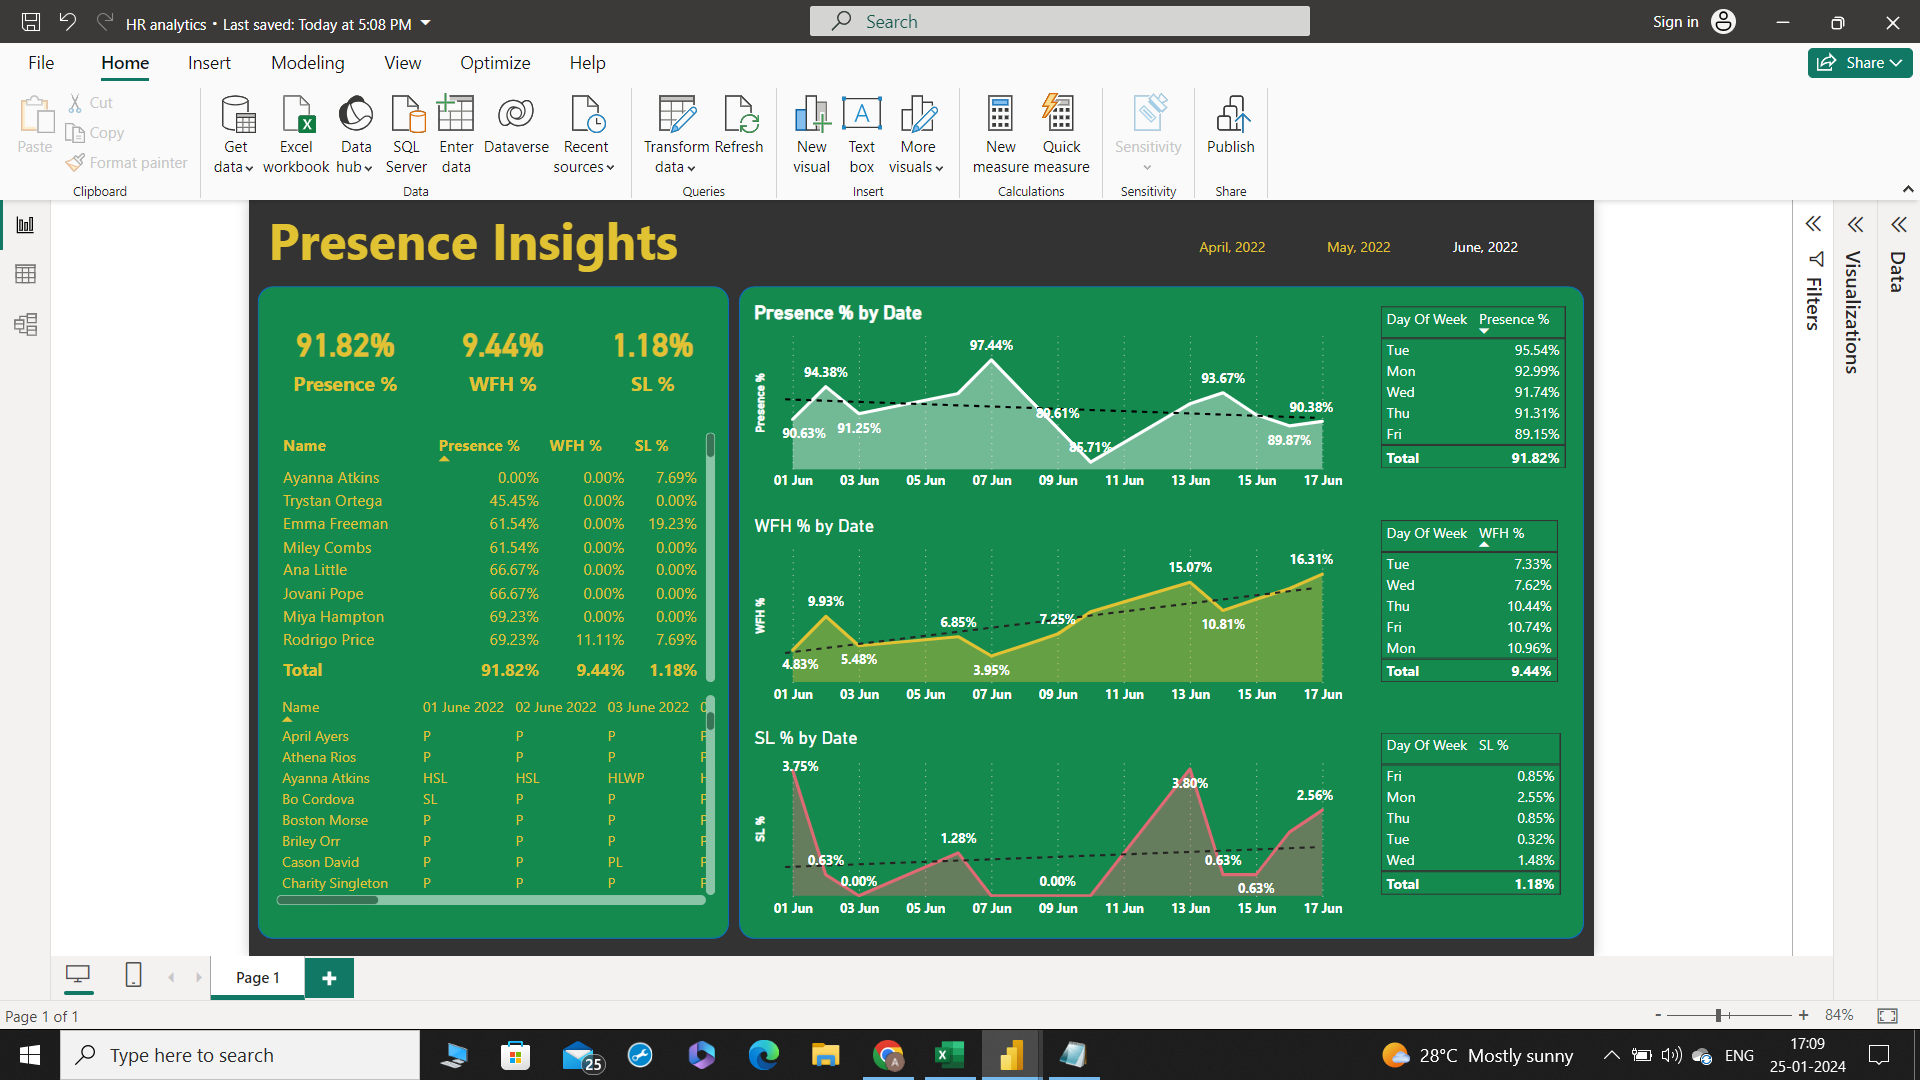

The page's visual inventory and layout, read from the dashboard file:
{"tool":"powerbi","page":{"name":"Page 1","canvas":[1280,720],"ordinal":0},"visuals":[{"type":"shape","box":[8.3,82.1,448.7,621.2],"z":0},{"type":"shape","box":[466.5,82.1,804.5,621.2],"z":1000},{"type":"card","fields":{"Values":["Measure Table.Presence %"]},"box":[21.4,96.4,140.4,104.7],"z":2000},{"type":"slicer","fields":{"Values":["Final Data.Month"]},"box":[850.9,15.5,409.4,58.3],"z":3000},{"type":"card","fields":{"Values":["Measure Table.WFH %"]},"box":[185.7,96.4,111.9,104.7],"z":4000},{"type":"card","fields":{"Values":["Measure Table.SL %"]},"box":[320.1,96.4,128.5,104.7],"z":5000},{"type":"tableEx","fields":{"Values":["Final Data.Name","Measure Table.Presence %","Measure Table.WFH %","Measure Table.SL %"]},"box":[21.4,216.6,427.2,247.5],"z":6000},{"type":"textbox","box":[0,0,427.2,80.9],"z":7000},{"type":"pivotTable","fields":{"Rows":["Final Data.Name"],"Columns":["Final Data.Date"],"Values":["Min(Final Data.Value)"]},"box":[21.4,466.5,427.2,209.5],"z":8000},{"type":"areaChart","fields":{"Y":["Measure Table.Presence %"],"Category":["Final Data.Date"]},"box":[476,96.4,570,189.2],"z":9000},{"type":"areaChart","fields":{"Y":["Measure Table.WFH %"],"Category":["Final Data.Date"]},"box":[476,299.9,570,189.2],"z":10000},{"type":"areaChart","fields":{"Y":["Measure Table.SL %"],"Category":["Final Data.Date"]},"box":[476,502.2,570,190.4],"z":11000},{"type":"tableEx","fields":{"Values":["Final Data.Day Of Week","Measure Table.Presence %"]},"box":[1071.1,96.4,189.2,174.9],"z":12000},{"type":"tableEx","fields":{"Values":["Final Data.Day Of Week","Measure Table.WFH %"]},"box":[1071.1,299.9,189.2,164.2],"z":13000},{"type":"tableEx","fields":{"Values":["Final Data.Day Of Week","Measure Table.SL %"]},"box":[1071.1,502.2,189.2,164.2],"z":14000}]}

Visuals, with their boxes on the page's 1280x720 design canvas (x1, y1, x2, y2). These are canvas units, not pixel positions in the 1920x1080 screenshot, which may show the page scaled, cropped or inside an application window:
shape: 8, 82, 457, 703
shape: 466, 82, 1271, 703
card - Measure Table.Presence %: 21, 96, 162, 201
slicer - Final Data.Month: 851, 16, 1260, 74
card - Measure Table.WFH %: 186, 96, 298, 201
card - Measure Table.SL %: 320, 96, 449, 201
tableEx - Final Data.Name x Measure Table.Presence %: 21, 217, 449, 464
textbox: 0, 0, 427, 81
pivotTable - Final Data.Name x Final Data.Date: 21, 466, 449, 676
areaChart - Measure Table.Presence % x Final Data.Date: 476, 96, 1046, 286
areaChart - Measure Table.WFH % x Final Data.Date: 476, 300, 1046, 489
areaChart - Measure Table.SL % x Final Data.Date: 476, 502, 1046, 693
tableEx - Final Data.Day Of Week x Measure Table.Presence %: 1071, 96, 1260, 271
tableEx - Final Data.Day Of Week x Measure Table.WFH %: 1071, 300, 1260, 464
tableEx - Final Data.Day Of Week x Measure Table.SL %: 1071, 502, 1260, 666
